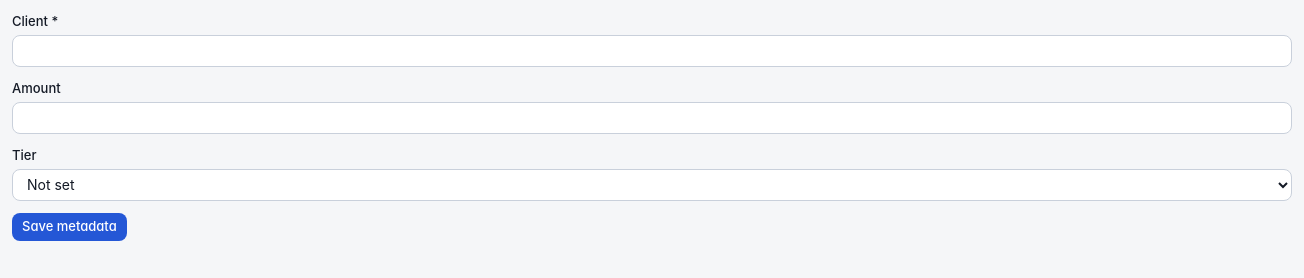
MetadataForm › sends typed values with expected_row_version and maps server metadata_invalid to fields
This screenshot has width=1304, height=278.
Step 1. Type "Nobody" into the field labelled "Client *" → (652, 51), box x1=12 y1=35 x2=1292 y2=67
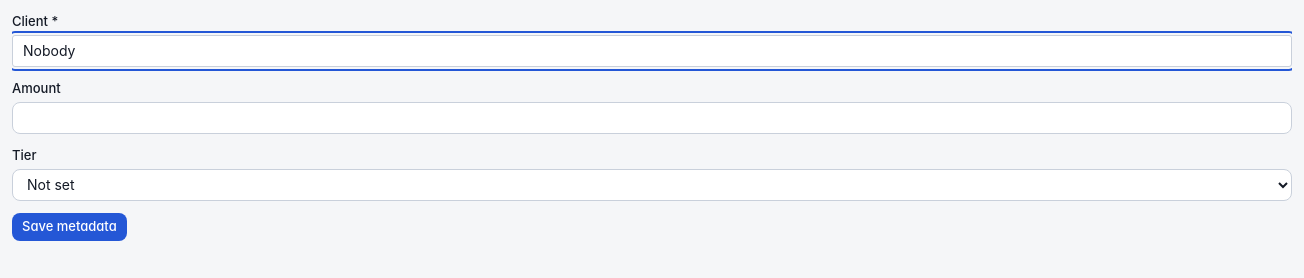
Step 2. Type "12.5" into the number field labelled "Amount" → (652, 118), box x1=12 y1=102 x2=1292 y2=134
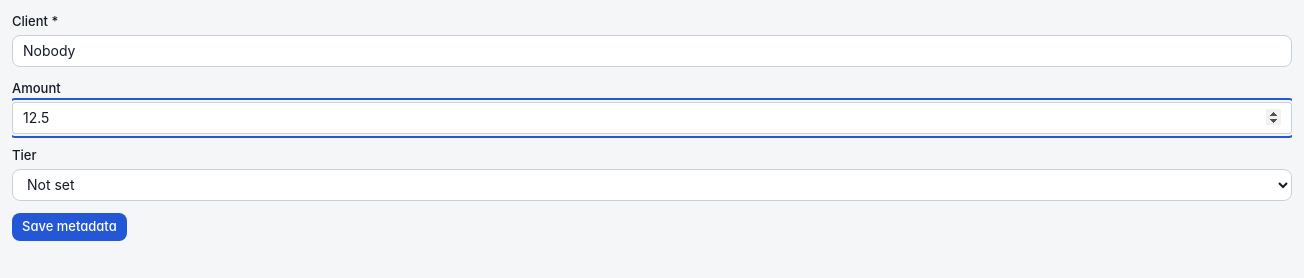
Step 3. Select "gold" in the dropdown labelled "Tier" → (652, 184), box x1=12 y1=168 x2=1292 y2=200
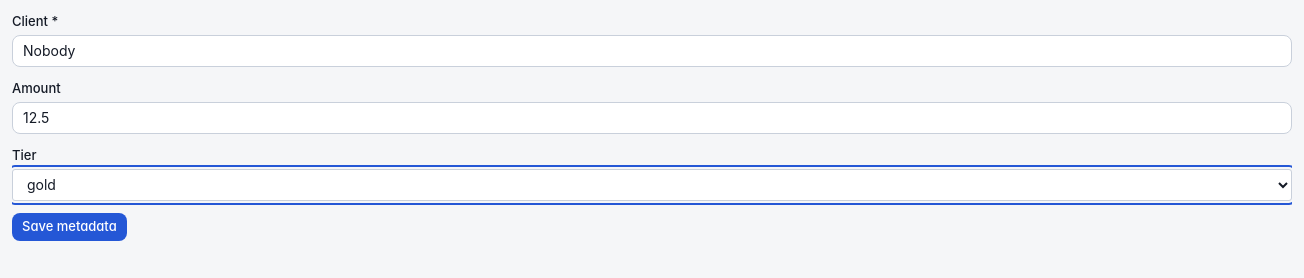
Step 4. Click the button "Save metadata" → (69, 226), box x1=12 y1=212 x2=127 y2=240
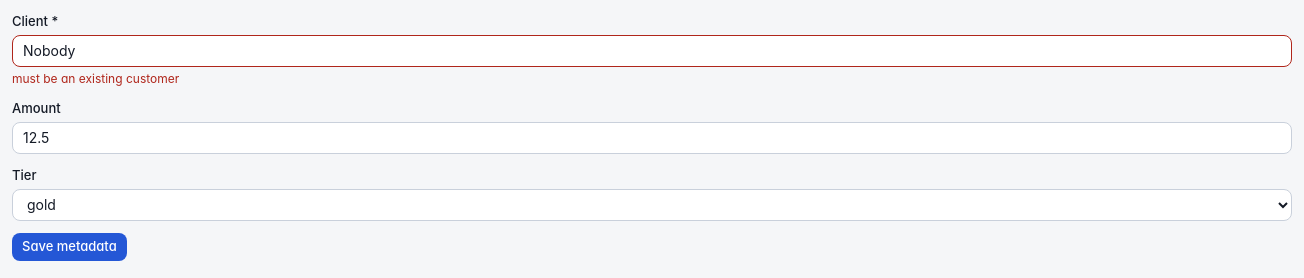
Expected: the text "must be an existing customer" is shown, x1=12 y1=71 x2=179 y2=86
